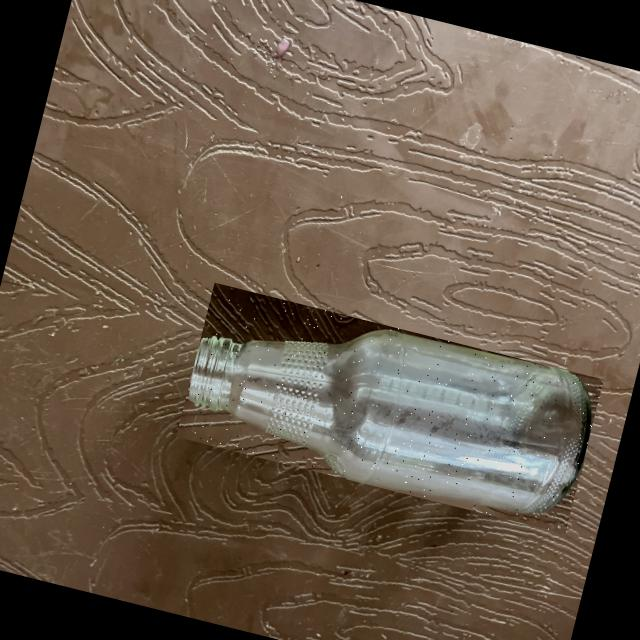Glass_Bottle: (190, 330, 590, 512)
